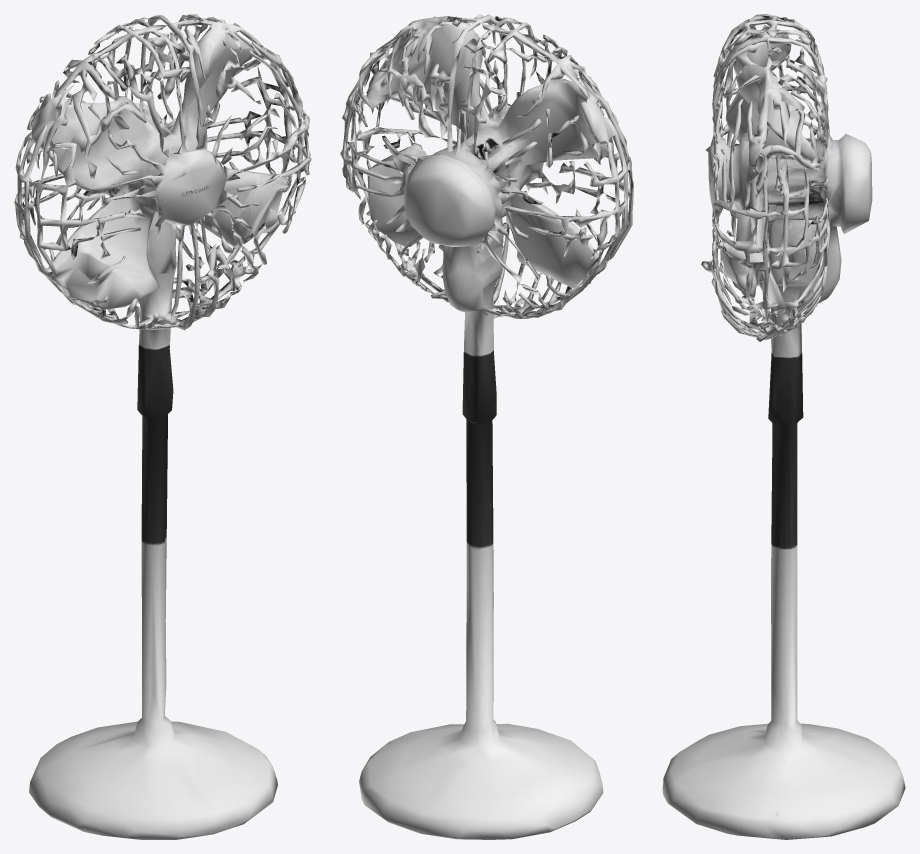
Rendered from pedestal_fan.glb.
3 views of the same model, side by side, from view 1: azimuth 30°, elevation 25°; view 2: azimuth 150°, elevation 25°; view 3: azimuth 270°, elevation 25° (orthographic).
Bounding box in the file's own units: 0.7594 × 2 × 0.5822.
1 material, 1 textured.
